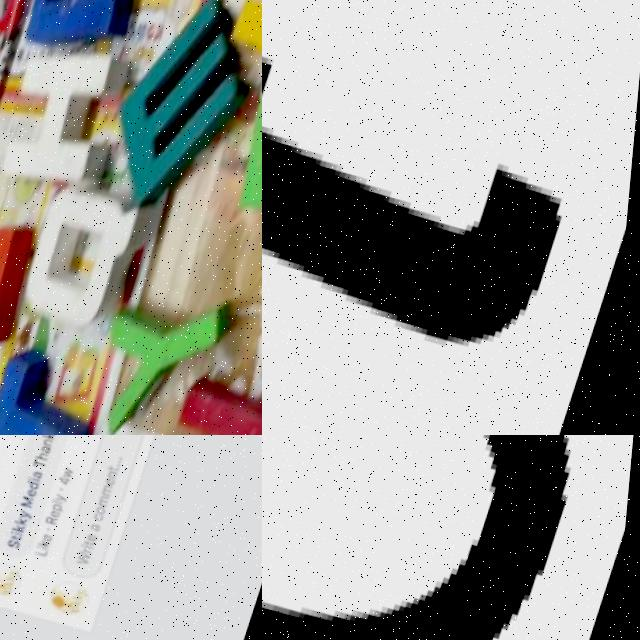0: (63, 472, 76, 482)
A: (44, 441, 56, 450), (96, 519, 107, 527), (38, 466, 47, 475)
B: (18, 0, 156, 56)
C: (262, 435, 574, 640), (99, 508, 110, 516)
D: (30, 477, 44, 486)
E: (48, 530, 60, 539), (93, 529, 105, 538), (110, 473, 122, 482), (55, 505, 67, 513), (32, 486, 43, 494)
H: (0, 29, 132, 195), (39, 447, 53, 457)
I: (0, 203, 43, 358), (16, 525, 30, 533), (43, 540, 56, 548), (32, 472, 46, 479), (87, 539, 101, 546)
K: (17, 519, 31, 529), (19, 512, 33, 522), (44, 535, 57, 544)
L: (41, 544, 55, 553), (57, 494, 71, 501)
M: (100, 0, 262, 207), (25, 491, 39, 504), (103, 490, 116, 502), (106, 480, 119, 492)
N: (113, 465, 122, 474), (47, 435, 57, 442)
O: (102, 501, 113, 509)
P: (58, 499, 71, 507)
Q: (22, 162, 175, 336)
R: (51, 512, 65, 521), (90, 543, 99, 550)
S: (13, 535, 26, 544)
T: (262, 0, 602, 377), (0, 347, 117, 435), (37, 454, 51, 464), (112, 461, 125, 468), (90, 535, 103, 541), (17, 531, 29, 537)
U: (168, 364, 262, 435)
W: (83, 546, 97, 561), (68, 463, 81, 475)
Y: (91, 265, 250, 435), (25, 506, 38, 516), (61, 490, 73, 498)
